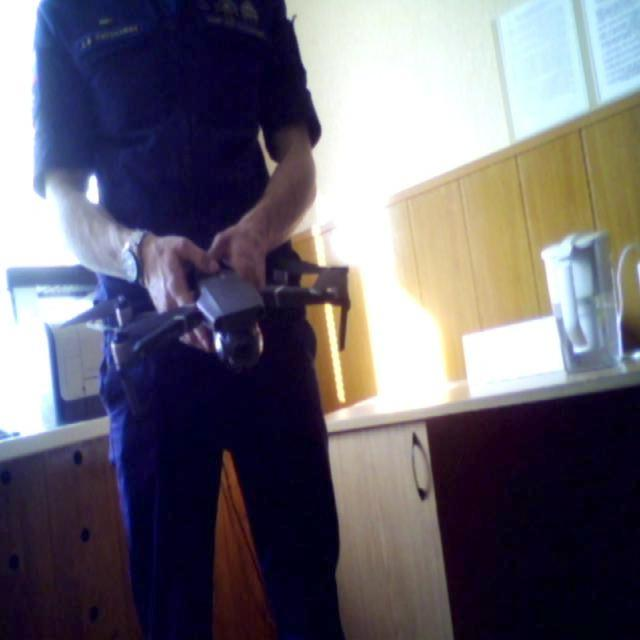drone: (68, 222, 358, 393)
